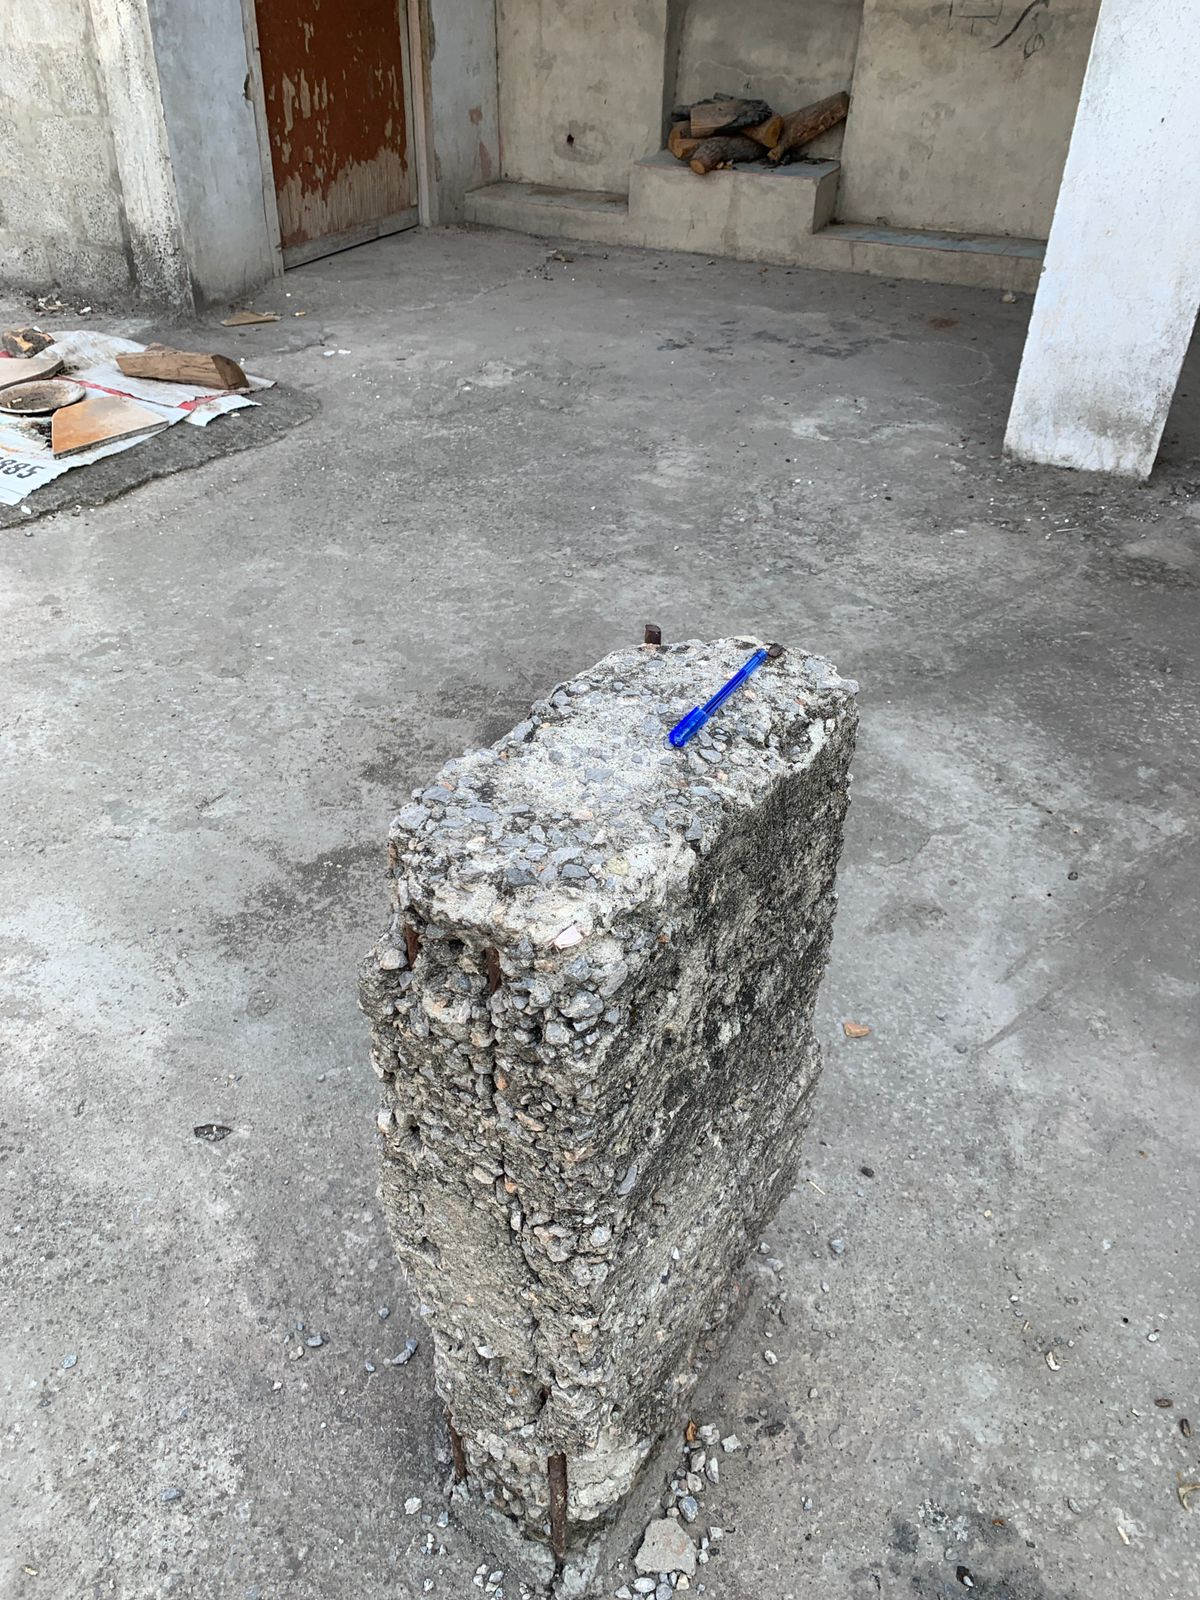pen: (628, 625, 784, 795)
